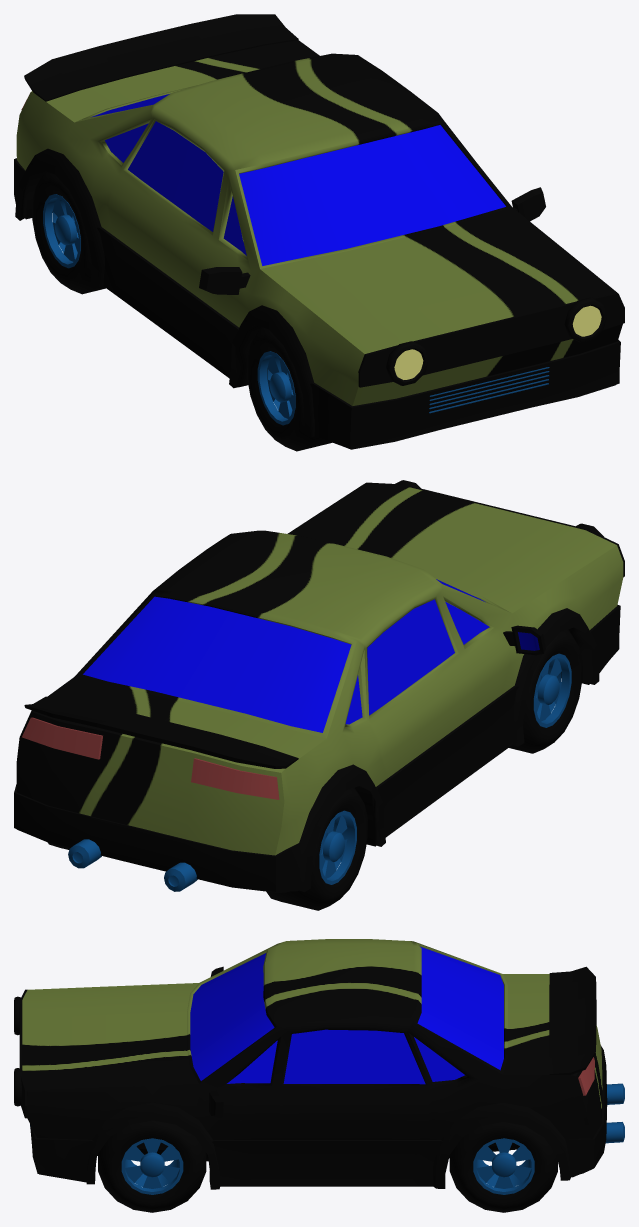
File: Muscle Evolution2 Black WaveBlackKaki Blue BlueGrey.glb
3 views of the same model, one above another, from view 1: azimuth 30°, elevation 25°; view 2: azimuth 150°, elevation 25°; view 3: azimuth 270°, elevation 25° (orthographic). The views are drawn at different scales.
Parts seen in each view (by area): view 1: evo2_body2_f1_dupl, evo2_frontGlass_f1_dupl, evo2_sill2_f1_dupl, evo2_spoiler2_f1_dupl, evo2_front_square2_f1_dupl, evo2_glasseBigR_f1_dupl, evo2_mudguardFR_f1_dupl, evo2_mudguardbR_f1_dupl, evo2_tire_rf1_f1_dupl, evo2_tire_rf_f1_dupl, evo2_rim_A_rf_f1_dupl, evo2_rim_A_rb_f1_dupl (+9 smaller); view 2: evo2_body2_f1_dupl, evo2_BackGlassGlass_f1_dupl, evo2_sill2_f1_dupl, evo2_spoiler2_f1_dupl, evo2_glasseBigR_f1_dupl, evo2_tire_rf_f1_dupl, evo2_mudguardbR_f1_dupl, evo2_mudguardFR_f1_dupl, evo2_tire_rf1_f1_dupl, evo2_rim_A_rf_f1_dupl, evo2_rim_A_rb_f1_dupl, evo2_redlightR2_f1_dupl (+5 smaller); view 3: evo2_body2_f1_dupl, evo2_sill2_f1_dupl, evo2_BackGlassGlass_f1_dupl, evo2_glasseBigL_f1_dupl, evo2_frontGlass_f1_dupl, evo2_tire_lf_f1_dupl, evo2_tire_lb_f1_dupl, evo2_spoiler2_f1_dupl, evo2_mudguardBL_f1_dupl, evo2_mudguardFL_f1_dupl, evo2_rim_A_lf_f1_dupl, evo2_rim_A_lb_f1_dupl (+4 smaller).
Part boxes in pixels (<box>): evo2_body2_f1_dupl: <box>16,40,622,405</box>; evo2_frontGlass_f1_dupl: <box>239,125,505,265</box>; evo2_sill2_f1_dupl: <box>14,158,620,449</box>; evo2_spoiler2_f1_dupl: <box>24,14,298,101</box>; evo2_front_square2_f1_dupl: <box>358,292,624,387</box>; evo2_glasseBigR_f1_dupl: <box>128,121,223,231</box>; evo2_mudguardFR_f1_dupl: <box>229,305,314,437</box>; evo2_mudguardbR_f1_dupl: <box>15,148,104,286</box>; evo2_tire_rf1_f1_dupl: <box>247,327,331,451</box>; evo2_tire_rf_f1_dupl: <box>32,171,105,294</box>; evo2_rim_A_rf_f1_dupl: <box>257,351,295,425</box>; evo2_rim_A_rb_f1_dupl: <box>43,194,80,268</box>; evo2_body2_f1_dupl: <box>16,483,623,855</box>; evo2_BackGlassGlass_f1_dupl: <box>83,596,351,732</box>; evo2_sill2_f1_dupl: <box>14,605,620,891</box>; evo2_spoiler2_f1_dupl: <box>24,696,298,768</box>; evo2_glasseBigR_f1_dupl: <box>367,599,454,715</box>; evo2_tire_rf_f1_dupl: <box>266,787,367,910</box>; evo2_mudguardbR_f1_dupl: <box>299,764,385,891</box>; evo2_mudguardFR_f1_dupl: <box>512,608,599,746</box>; evo2_tire_rf1_f1_dupl: <box>509,629,582,753</box>; evo2_rim_A_rf_f1_dupl: <box>533,653,571,727</box>; evo2_rim_A_rb_f1_dupl: <box>319,810,356,884</box>; evo2_redlightR2_f1_dupl: <box>191,758,279,799</box>; evo2_body2_f1_dupl: <box>22,939,602,1159</box>; evo2_sill2_f1_dupl: <box>30,1045,607,1186</box>; evo2_BackGlassGlass_f1_dupl: <box>417,946,503,1070</box>; evo2_glasseBigL_f1_dupl: <box>283,1029,425,1084</box>; evo2_frontGlass_f1_dupl: <box>190,953,274,1080</box>; evo2_tire_lf_f1_dupl: <box>98,1120,206,1212</box>; evo2_tire_lb_f1_dupl: <box>449,1122,557,1212</box>; evo2_spoiler2_f1_dupl: <box>549,966,596,1074</box>; evo2_mudguardBL_f1_dupl: <box>433,1102,570,1188</box>; evo2_mudguardFL_f1_dupl: <box>86,1102,220,1189</box>; evo2_rim_A_lf_f1_dupl: <box>121,1138,183,1194</box>; evo2_rim_A_lb_f1_dupl: <box>473,1138,534,1194</box>.
Size of the model in its own units: 177 by 112 by 331.
7 materials, 1 textured.
